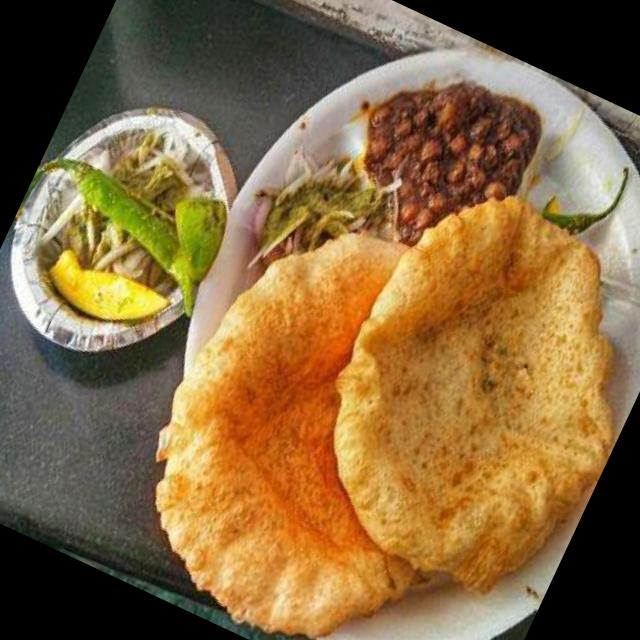Bhatura: (99, 185, 538, 640), (283, 164, 640, 623)
